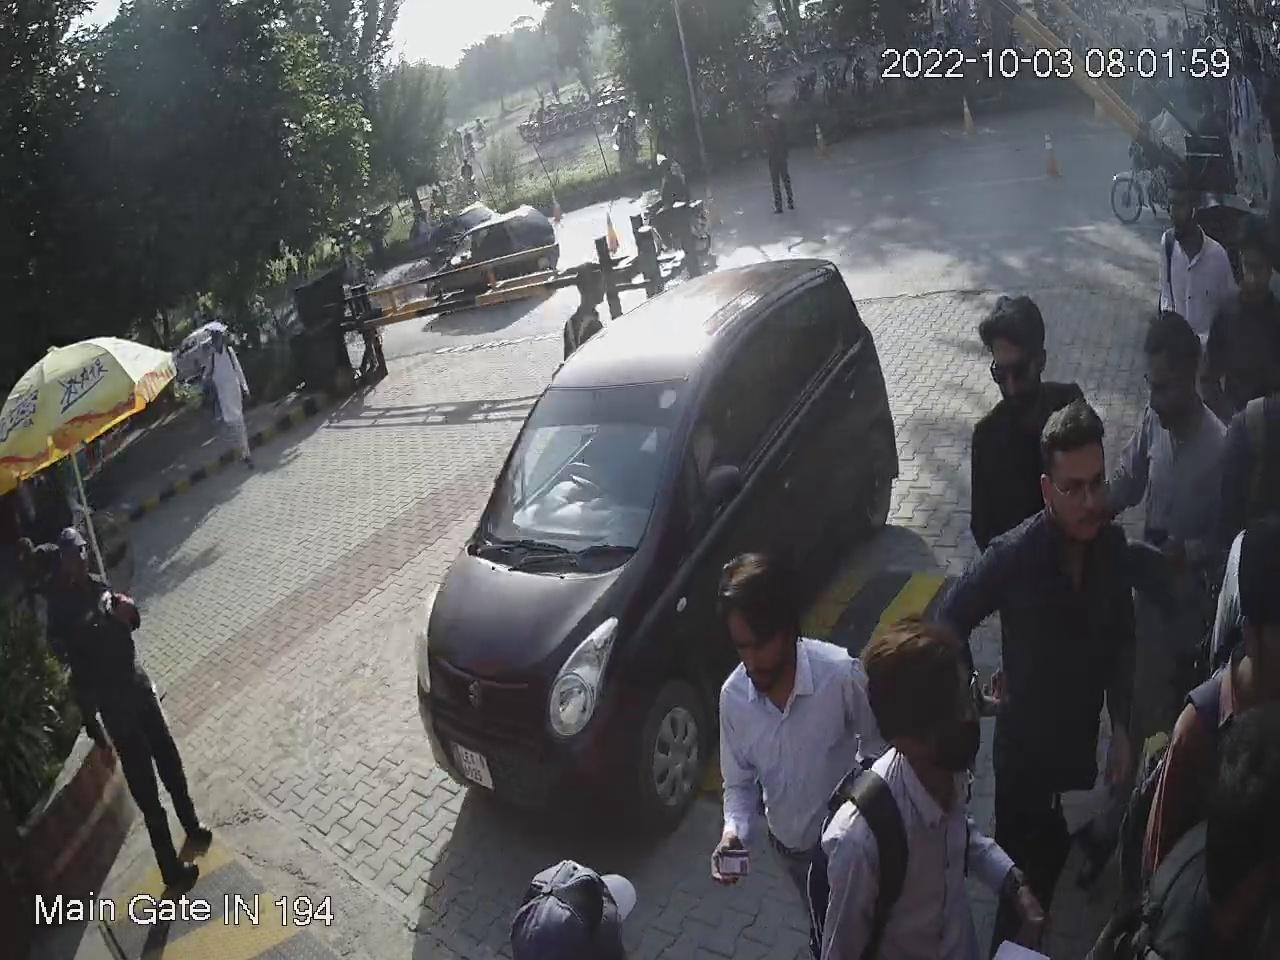windshield: (461, 370, 709, 578)
